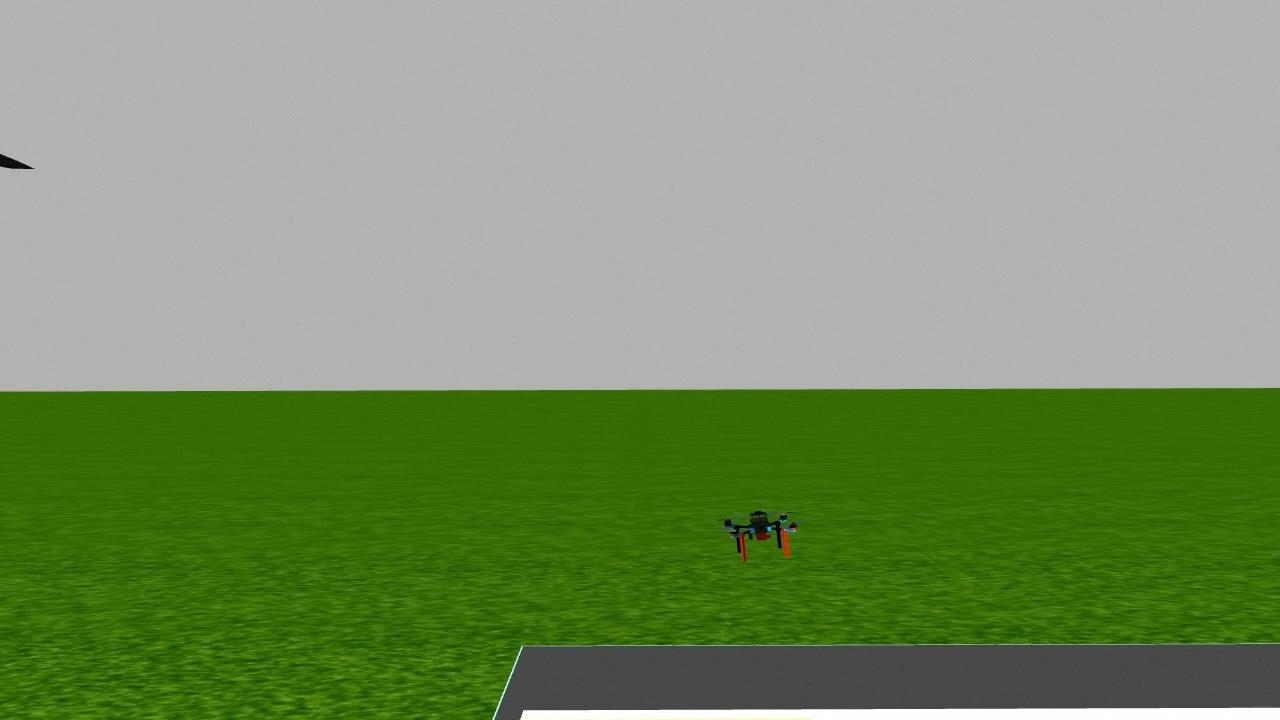UAV: (714, 489, 810, 570)
